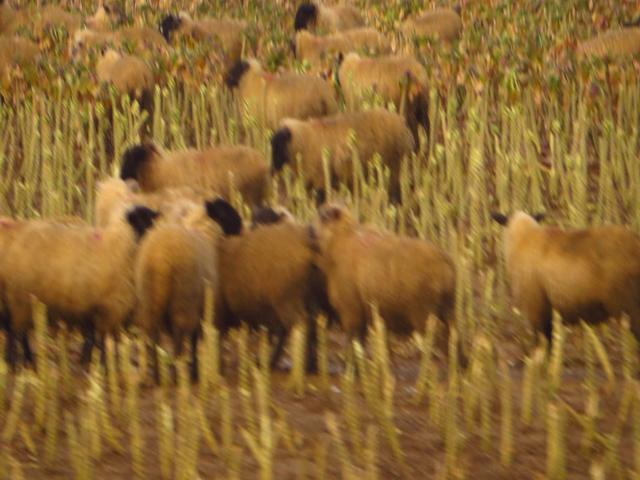sheep: (104, 175, 225, 383)
